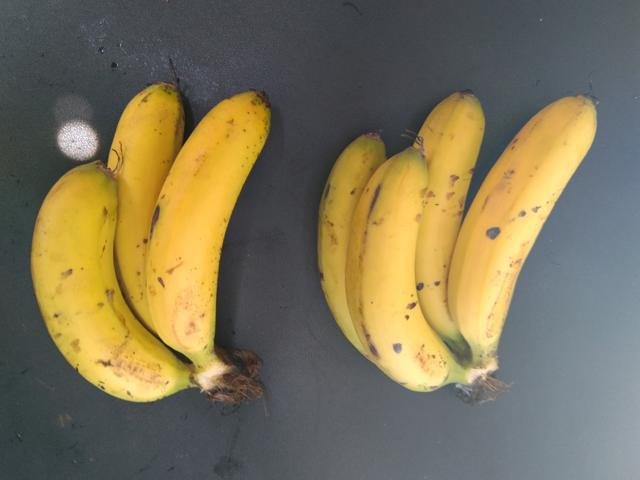ripe: (155, 70, 288, 387), (456, 93, 594, 371), (20, 165, 175, 407), (350, 140, 473, 386)
